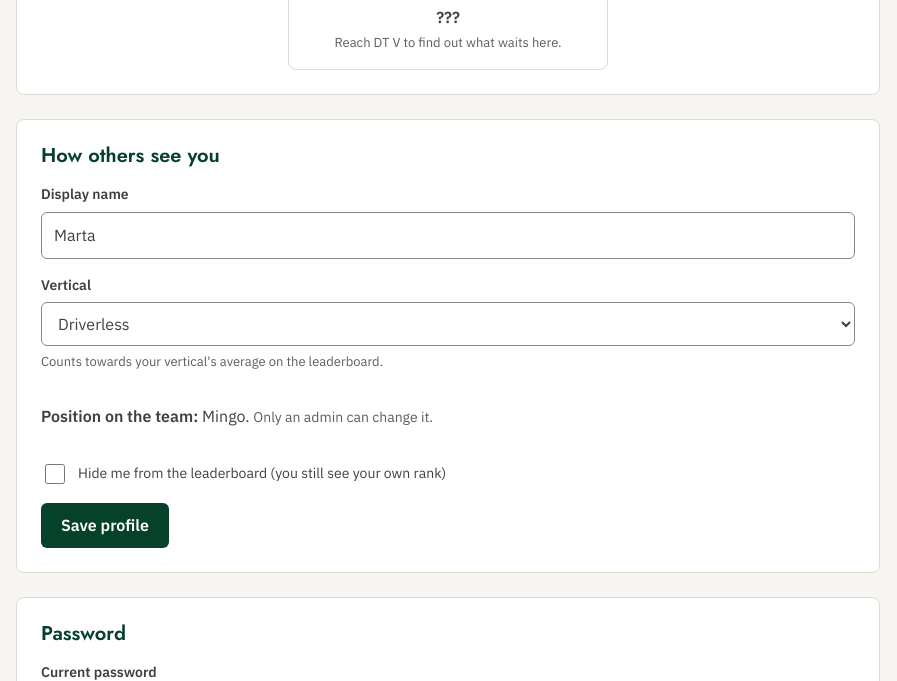
Test: clearing the vertical sends null and the saved notice appears
The image size is (897, 681).
(page scrolled)
Select "Not set" in the dropdown labelled "Vertical" at (448, 324), box [41,302,855,346]
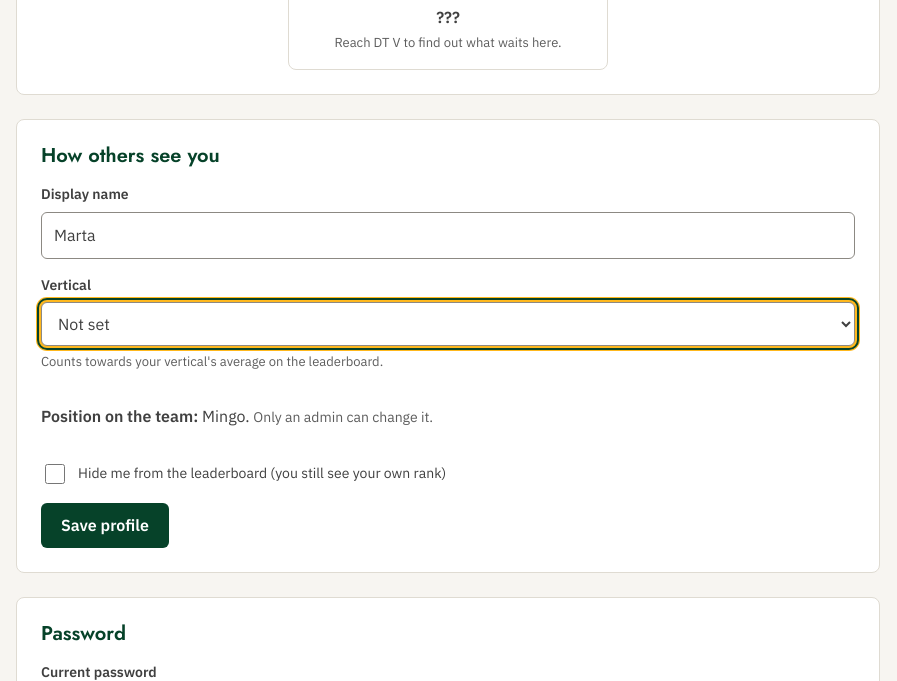
Click the checkbox labelled "Hide me from the leaderboard (you still see your own rank)".
click(55, 474)  # box [45,464,65,484]
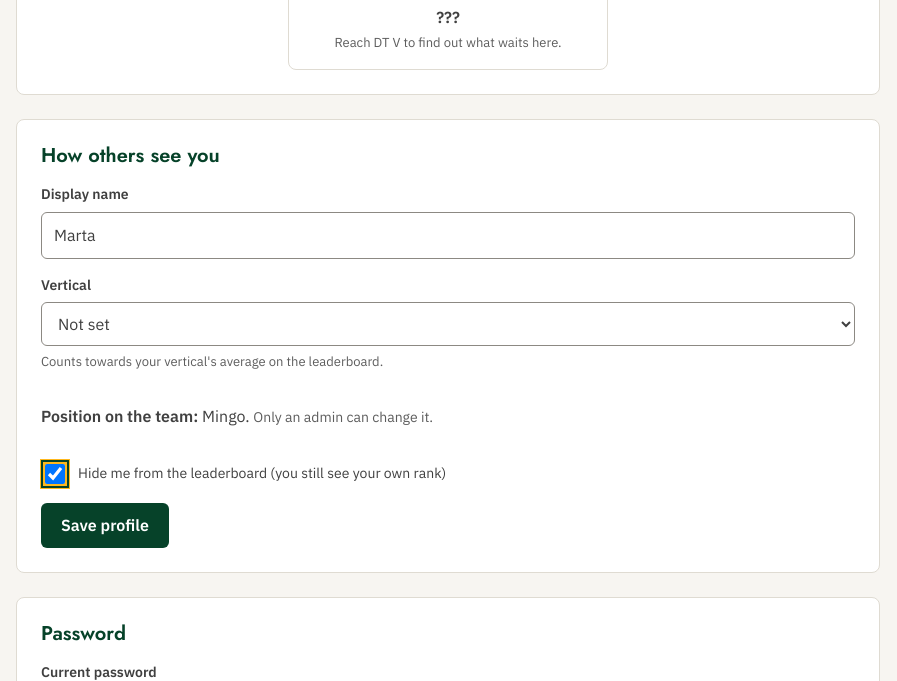
Click the button "Save profile".
click(105, 526)  # box [41,503,169,548]
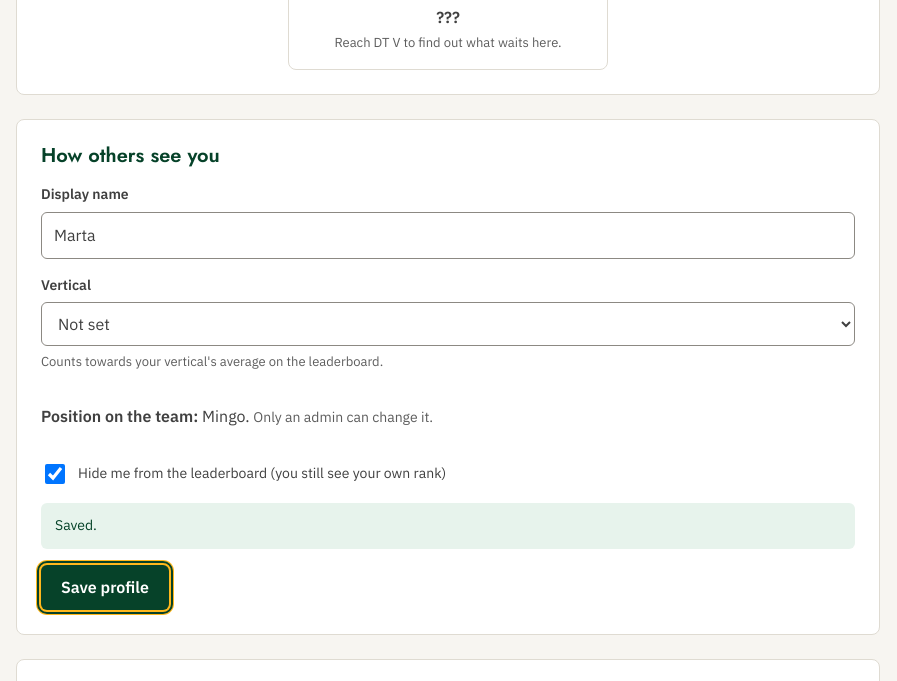
Expected: the text "Saved." is shown, [41,503,855,549]
